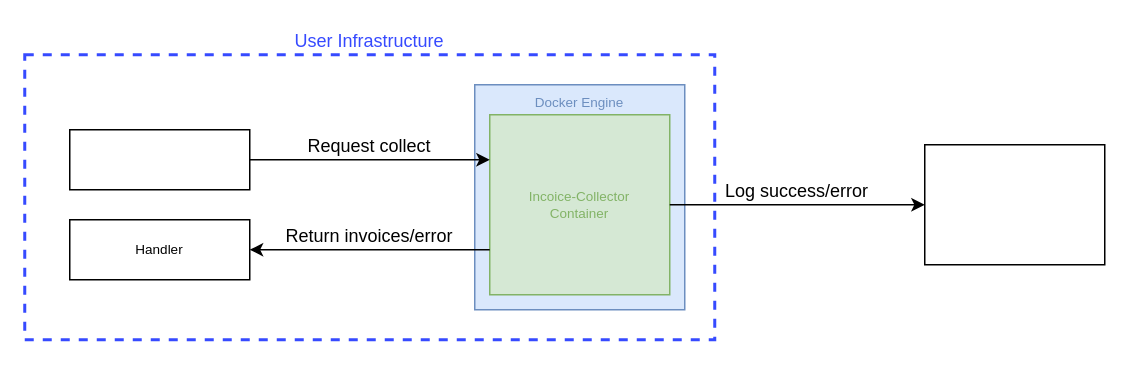
Image size: 1130x365. Some labels were removed from this diagram. Each missing label, with the centre of its shape:
Incoice-Collector Server: the point at 1014,204
Requestor: the point at 159,159
